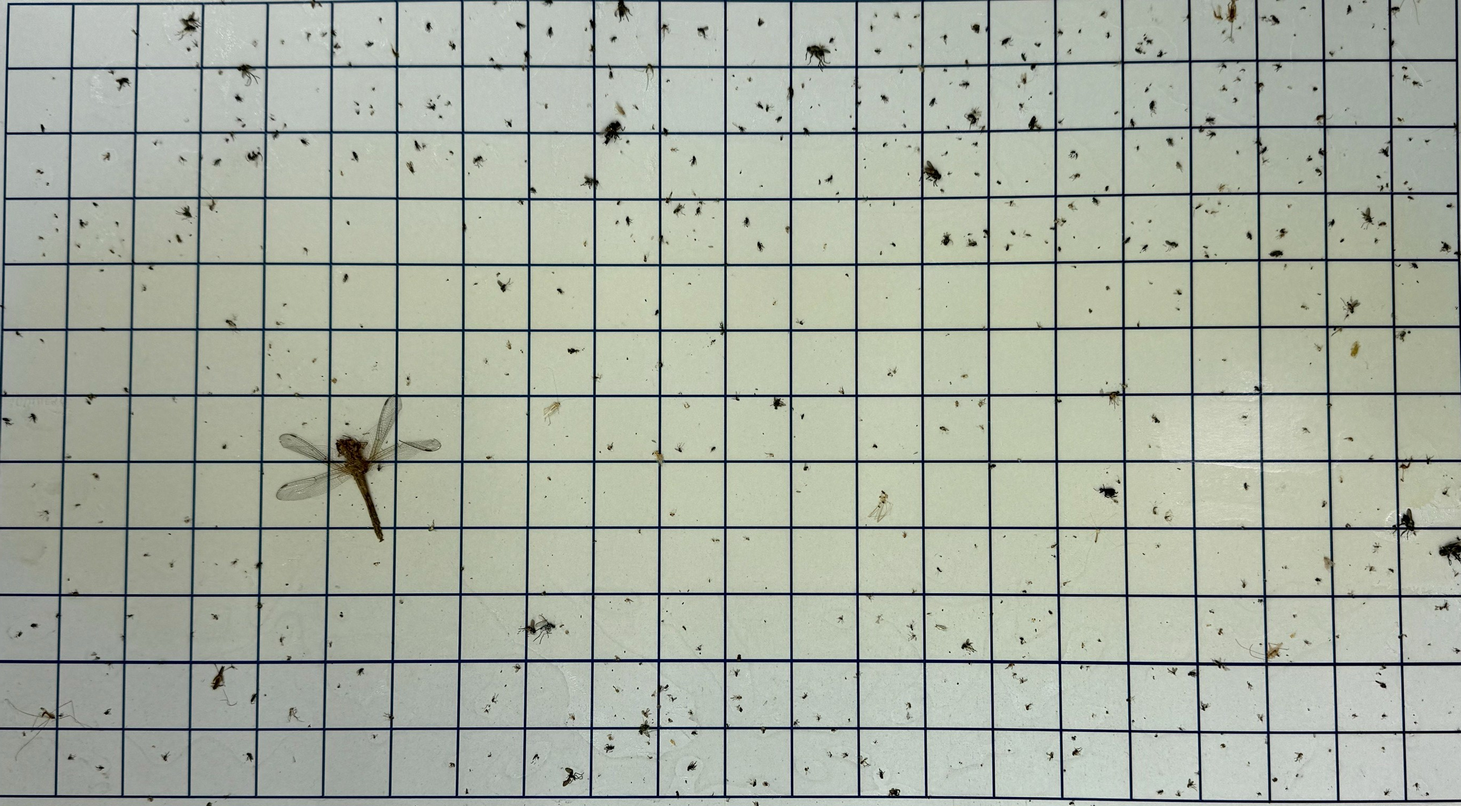fly: (1391, 508, 1417, 536), (804, 42, 831, 66), (1437, 538, 1461, 564), (602, 119, 626, 144), (611, 0, 636, 23), (922, 159, 942, 184)
test: (270, 395, 456, 545), (874, 489, 891, 525), (209, 665, 227, 695), (30, 705, 58, 724), (237, 64, 259, 86), (562, 765, 581, 789), (539, 616, 557, 640), (610, 98, 628, 117), (1266, 643, 1284, 662), (581, 174, 601, 191), (1098, 485, 1120, 499), (544, 401, 561, 419), (965, 109, 981, 128), (638, 722, 654, 740), (1227, 1, 1239, 25), (1345, 297, 1361, 315), (522, 618, 537, 637), (961, 638, 977, 655), (246, 150, 263, 165), (287, 704, 301, 722), (643, 65, 656, 84), (1360, 206, 1373, 225), (116, 76, 132, 91), (223, 316, 238, 331), (424, 519, 439, 534), (1214, 658, 1230, 672), (940, 233, 953, 250), (661, 21, 672, 41), (496, 279, 511, 293), (672, 204, 686, 219), (1323, 556, 1337, 571), (652, 451, 666, 466), (206, 198, 218, 215), (1348, 341, 1360, 358), (697, 24, 710, 39), (1107, 391, 1120, 406), (1212, 3, 1222, 22), (183, 21, 197, 34), (772, 397, 786, 410), (180, 206, 192, 221), (1000, 37, 1015, 49), (1199, 701, 1215, 712), (1268, 250, 1285, 260), (623, 215, 635, 229), (742, 215, 753, 230), (1093, 525, 1101, 545), (1164, 239, 1180, 249), (188, 13, 202, 24), (1070, 747, 1084, 758), (1186, 778, 1197, 792), (1026, 115, 1037, 129), (390, 43, 399, 60), (247, 694, 260, 705), (1187, 668, 1200, 679), (753, 240, 766, 251), (916, 62, 927, 75), (935, 623, 949, 633), (1315, 115, 1329, 125), (691, 153, 699, 170), (406, 161, 415, 176), (787, 86, 796, 101), (1150, 502, 1159, 517), (1204, 116, 1219, 125), (474, 155, 485, 167), (544, 25, 555, 37), (879, 92, 890, 104), (1068, 150, 1079, 162), (1379, 147, 1391, 158), (673, 441, 684, 453), (297, 418, 310, 428), (382, 711, 395, 721), (1268, 15, 1281, 25), (886, 788, 902, 796), (1148, 99, 1156, 115), (566, 346, 580, 355), (1278, 227, 1289, 238), (351, 151, 361, 163), (92, 471, 102, 483), (541, 0, 556, 8), (1092, 197, 1102, 209), (1164, 512, 1174, 524), (245, 751, 254, 764), (1166, 668, 1179, 677), (424, 102, 438, 110), (1438, 602, 1452, 610), (719, 320, 726, 336), (40, 508, 51, 518), (255, 600, 266, 610), (610, 683, 620, 694), (1023, 701, 1034, 711), (586, 18, 596, 29), (754, 100, 765, 110), (802, 125, 812, 136), (555, 286, 565, 297), (640, 253, 651, 263), (693, 207, 704, 217), (968, 238, 978, 249), (1151, 414, 1161, 425), (1164, 137, 1175, 147), (523, 49, 532, 61), (503, 117, 512, 129), (623, 595, 635, 604), (1133, 45, 1145, 54), (1375, 680, 1387, 689), (425, 21, 433, 34), (413, 140, 421, 153), (404, 373, 412, 386), (731, 694, 744, 702), (766, 101, 774, 114), (666, 143, 679, 151), (785, 222, 793, 235), (1068, 173, 1081, 181), (1295, 751, 1303, 764), (356, 666, 366, 676), (687, 761, 697, 771), (747, 778, 757, 788), (1046, 751, 1056, 761), (891, 10, 901, 20), (801, 464, 811, 474), (1272, 62, 1282, 72), (1412, 79, 1422, 89), (1207, 130, 1217, 140), (1253, 139, 1263, 149), (177, 153, 188, 162), (515, 20, 526, 29), (492, 63, 503, 72), (377, 464, 386, 475), (1019, 635, 1028, 646), (632, 102, 641, 113), (972, 23, 981, 34), (927, 97, 938, 106), (1441, 242, 1450, 253), (1401, 460, 1412, 469), (603, 744, 615, 752), (757, 16, 765, 28), (664, 191, 672, 203), (1021, 74, 1029, 86), (1175, 161, 1183, 173), (1245, 230, 1253, 242), (176, 234, 185, 244), (255, 561, 264, 571), (103, 709, 113, 718), (904, 701, 913, 711), (1006, 662, 1016, 671), (697, 196, 706, 206), (711, 194, 720, 204), (824, 174, 834, 183), (1018, 52, 1028, 61), (795, 318, 805, 327), (1218, 61, 1228, 70), (1255, 82, 1264, 92), (1314, 343, 1323, 353), (448, 40, 456, 51), (13, 330, 24, 338), (341, 273, 349, 284), (184, 515, 192, 526), (209, 613, 220, 621), (161, 753, 169, 764), (877, 768, 885, 779), (906, 633, 917, 641), (662, 125, 670, 136), (872, 48, 883, 56), (941, 33, 949, 44), (983, 228, 991, 239), (1065, 202, 1076, 210), (1018, 102, 1026, 113), (1119, 382, 1130, 390), (1389, 7, 1400, 15), (1398, 330, 1406, 341), (1332, 327, 1343, 335), (1246, 681, 1254, 692), (1257, 712, 1265, 723), (272, 129, 279, 141), (1, 415, 13, 422), (28, 622, 40, 629), (38, 124, 47, 133), (300, 137, 309, 146), (504, 340, 513, 349), (220, 442, 229, 451), (694, 643, 703, 652), (642, 709, 651, 718), (935, 566, 944, 575), (775, 116, 784, 125), (1155, 49, 1164, 58), (1053, 397, 1062, 406), (1259, 146, 1268, 155), (35, 167, 45, 175), (103, 151, 111, 161), (91, 200, 101, 208), (79, 219, 87, 229), (321, 30, 329, 40), (70, 590, 80, 598), (278, 637, 286, 647), (65, 753, 75, 761), (532, 751, 540, 761), (710, 536, 720, 544), (861, 756, 869, 766), (1126, 695, 1136, 703), (829, 34, 837, 44), (736, 124, 746, 132), (960, 80, 970, 88), (1056, 28, 1064, 38), (1317, 148, 1327, 156), (1304, 637, 1312, 647), (1398, 632, 1408, 640), (305, 31, 312, 42), (908, 622, 915, 633), (1128, 118, 1135, 129), (1036, 321, 1043, 332), (234, 94, 243, 102), (213, 158, 222, 166), (460, 224, 468, 233), (5, 420, 14, 428), (125, 387, 133, 396), (170, 395, 178, 404), (142, 552, 151, 560), (231, 557, 239, 566), (54, 612, 63, 620), (284, 654, 293, 662), (514, 664, 523, 672), (605, 733, 614, 741), (1217, 628, 1225, 637), (610, 34, 618, 43), (1059, 116, 1067, 125), (964, 56, 970, 68), (1104, 31, 1112, 40), (1146, 38, 1155, 46), (1123, 236, 1131, 245), (1140, 244, 1149, 252), (838, 388, 846, 397), (978, 399, 986, 408), (940, 425, 948, 434), (765, 451, 774, 459), (1219, 85, 1228, 93), (1232, 76, 1241, 84), (1410, 262, 1419, 270), (1320, 501, 1329, 509), (605, 443, 614, 451), (670, 739, 678, 748), (293, 392, 302, 400), (106, 68, 116, 75), (365, 41, 375, 48), (302, 247, 309, 257), (530, 187, 537, 197), (30, 413, 37, 423), (72, 502, 82, 509), (120, 633, 127, 643), (327, 639, 334, 649), (741, 534, 751, 541), (867, 592, 874, 602), (901, 530, 908, 540), (1219, 181, 1226, 191), (1240, 579, 1247, 589), (1347, 591, 1357, 598), (1453, 570, 1460, 580), (484, 454, 495, 460), (93, 655, 104, 661), (372, 731, 378, 742), (484, 704, 490, 715), (588, 42, 594, 53), (1405, 195, 1416, 201), (1112, 60, 1123, 66), (65, 453, 73, 461), (736, 704, 744, 712), (649, 690, 657, 698), (831, 727, 839, 735), (614, 198, 622, 206), (946, 169, 954, 177), (1099, 9, 1107, 17), (988, 463, 996, 471), (1175, 289, 1183, 297), (1373, 542, 1381, 550), (347, 61, 354, 70), (88, 391, 95, 400), (311, 357, 318, 366), (15, 630, 24, 637), (107, 660, 114, 669), (95, 764, 104, 771), (490, 694, 497, 703), (759, 725, 766, 734), (613, 218, 620, 227), (657, 235, 664, 244), (913, 12, 920, 21), (1030, 64, 1039, 71), (1186, 15, 1193, 24), (1305, 155, 1314, 162), (1315, 168, 1322, 177), (1329, 218, 1336, 227), (1253, 385, 1262, 392), (1301, 426, 1310, 433), (1243, 482, 1250, 491), (1425, 456, 1432, 465), (1452, 647, 1461, 654), (732, 392, 739, 401), (229, 128, 235, 138), (142, 284, 148, 294), (736, 654, 742, 664), (903, 714, 913, 720), (1156, 789, 1166, 795), (882, 140, 888, 150), (1005, 242, 1011, 252), (1347, 4, 1353, 14), (1389, 40, 1395, 50), (1261, 158, 1271, 164), (1445, 203, 1455, 209), (1342, 437, 1354, 442), (915, 145, 921, 155), (147, 264, 154, 272), (85, 399, 93, 406), (275, 373, 283, 380), (337, 611, 345, 618), (335, 682, 342, 690), (681, 625, 688, 633), (732, 670, 740, 677), (662, 683, 669, 691), (541, 103, 549, 110), (994, 179, 1002, 186), (1007, 200, 1015, 207), (1035, 125, 1042, 133), (1049, 542, 1057, 549), (1402, 74, 1409, 82), (1396, 116, 1404, 123), (1197, 125, 1204, 133), (1442, 487, 1449, 495), (1344, 523, 1352, 530), (1380, 712, 1388, 719), (1413, 782, 1421, 789), (32, 481, 37, 492), (801, 80, 806, 91), (1453, 124, 1458, 135), (131, 30, 140, 36), (37, 338, 46, 344), (516, 198, 525, 204), (331, 375, 337, 384), (169, 560, 175, 569), (613, 655, 622, 661), (1019, 678, 1028, 684), (745, 75, 754, 81), (654, 309, 660, 318), (891, 200, 897, 209), (982, 126, 988, 135), (1116, 476, 1122, 485), (1233, 98, 1239, 107), (682, 402, 691, 408), (96, 520, 106, 525), (1175, 726, 1185, 731), (609, 67, 614, 77), (780, 132, 785, 142), (1062, 217, 1067, 227), (186, 45, 193, 52), (239, 122, 246, 129), (77, 243, 84, 250), (108, 248, 115, 255), (333, 43, 340, 50), (252, 39, 259, 46), (522, 64, 529, 71), (355, 109, 362, 116), (485, 752, 492, 759), (688, 709, 695, 716), (724, 723, 731, 730), (926, 610, 933, 617), (1026, 579, 1033, 586), (581, 240, 588, 247), (941, 67, 948, 74), (1143, 87, 1150, 94), (960, 372, 967, 379), (1282, 263, 1289, 270), (1384, 789, 1391, 796), (564, 629, 571, 636), (268, 114, 276, 120), (282, 122, 290, 128), (398, 101, 404, 109), (343, 421, 351, 427), (398, 599, 406, 605), (59, 711, 65, 719), (637, 528, 643, 536), (569, 713, 575, 721), (763, 782, 771, 788), (1063, 581, 1071, 587), (1089, 713, 1097, 719), (899, 68, 905, 76), (891, 241, 897, 249), (1043, 237, 1049, 245), (1053, 219, 1061, 225), (1035, 40, 1041, 48), (1066, 46, 1072, 54), (1261, 14, 1267, 22), (1378, 221, 1386, 227), (1299, 304, 1307, 310), (1337, 475, 1343, 483), (1387, 567, 1395, 573), (1271, 777, 1279, 783), (332, 28, 337, 37), (465, 786, 470, 795), (802, 691, 807, 700), (1048, 608, 1053, 617), (940, 151, 949, 156), (985, 24, 990, 33), (1136, 321, 1141, 330), (1194, 204, 1203, 209), (1210, 210, 1219, 215), (223, 137, 230, 143), (445, 100, 451, 107), (345, 220, 351, 227), (127, 613, 134, 619), (450, 760, 456, 767), (559, 623, 566, 629), (670, 509, 676, 516), (675, 790, 681, 797), (540, 590, 547, 596), (1071, 735, 1078, 741), (1176, 790, 1183, 796), (817, 178, 823, 185), (908, 43, 914, 50), (863, 195, 869, 202), (843, 272, 849, 279), (1010, 229, 1016, 236), (1057, 246, 1063, 253), (1113, 111, 1119, 118), (1379, 184, 1385, 191), (1241, 414, 1248, 420), (1368, 455, 1375, 461), (1399, 476, 1405, 483), (1241, 525, 1247, 532), (1257, 599, 1264, 605), (1031, 618, 1038, 624), (1142, 34, 1149, 40), (1427, 551, 1434, 557), (753, 800, 760, 806), (194, 40, 199, 48), (217, 67, 222, 75), (152, 140, 160, 145), (97, 327, 107, 331), (484, 357, 489, 365), (21, 731, 26, 739), (841, 753, 849, 758), (910, 589, 918, 594), (1210, 608, 1215, 616), (1023, 232, 1031, 237), (1048, 90, 1053, 98), (800, 413, 805, 421), (955, 400, 960, 408), (1070, 264, 1078, 269), (1454, 250, 1459, 258), (1325, 402, 1333, 407), (1367, 567, 1375, 572), (1382, 664, 1387, 672), (692, 187, 696, 197), (646, 755, 654, 760), (1205, 623, 1213, 628), (1394, 262, 1402, 267), (53, 212, 59, 218), (55, 226, 61, 232), (310, 2, 316, 8), (369, 111, 375, 117), (205, 365, 211, 371), (672, 697, 678, 703), (668, 716, 674, 722), (802, 766, 811, 770), (1080, 643, 1086, 649), (956, 135, 962, 141), (939, 188, 945, 194), (1105, 185, 1109, 194), (772, 300, 778, 306), (887, 371, 893, 377), (979, 424, 985, 430), (1087, 308, 1093, 314), (1239, 68, 1245, 74), (1312, 86, 1318, 92), (1297, 179, 1303, 185), (1376, 174, 1382, 180), (1203, 252, 1209, 258), (1373, 238, 1379, 244), (1377, 671, 1383, 677), (1381, 745, 1387, 751), (660, 361, 664, 370), (710, 446, 716, 452), (651, 438, 657, 444), (131, 410, 137, 416), (711, 338, 717, 344), (1017, 81, 1021, 90), (97, 268, 104, 273), (488, 56, 495, 61), (492, 1, 499, 6), (370, 85, 377, 90), (437, 113, 442, 120), (275, 321, 282, 326), (268, 344, 275, 349), (255, 385, 260, 392), (828, 750, 833, 757), (839, 615, 844, 622), (1220, 743, 1227, 748), (1194, 770, 1201, 775), (836, 199, 843, 204), (945, 124, 950, 131), (973, 140, 978, 147), (893, 367, 898, 374), (1149, 281, 1154, 288), (1234, 150, 1241, 155), (1291, 632, 1296, 639), (1350, 714, 1357, 719), (1425, 791, 1430, 798), (593, 376, 600, 381), (546, 475, 551, 482), (1281, 565, 1288, 570), (184, 119, 191, 124), (472, 282, 479, 287), (37, 235, 45, 239), (115, 220, 119, 228), (817, 714, 821, 722), (690, 731, 698, 735), (850, 126, 858, 130), (823, 243, 827, 251), (1221, 358, 1229, 362), (644, 741, 652, 745), (235, 117, 241, 122), (318, 1, 323, 7), (422, 143, 427, 149), (449, 150, 455, 155), (460, 565, 466, 570), (667, 693, 673, 698), (660, 618, 666, 623), (1097, 637, 1102, 643), (1011, 673, 1017, 678), (869, 24, 874, 30), (873, 12, 878, 18), (907, 144, 912, 150), (974, 172, 980, 177), (872, 444, 878, 449), (1156, 543, 1161, 549), (1329, 52, 1335, 57), (1409, 137, 1414, 143), (1402, 180, 1408, 185), (1408, 186, 1413, 192), (1256, 791, 1262, 796), (1328, 748, 1333, 754), (1151, 675, 1156, 681), (626, 139, 631, 145), (603, 94, 609, 99), (855, 672, 861, 677), (725, 798, 731, 803), (353, 101, 360, 105), (205, 390, 212, 394), (374, 562, 381, 566), (1154, 734, 1161, 738), (857, 99, 861, 106), (1300, 6, 1307, 10), (1401, 66, 1408, 70), (1175, 467, 1182, 471), (1315, 578, 1322, 582), (1334, 634, 1341, 638), (1413, 720, 1420, 724), (666, 77, 670, 84), (380, 16, 383, 25), (505, 371, 510, 376), (638, 662, 643, 667), (1022, 589, 1027, 594), (1085, 665, 1090, 670), (1131, 719, 1136, 724), (1105, 710, 1110, 715), (835, 192, 840, 197), (902, 124, 907, 129), (973, 544, 978, 549), (1105, 285, 1110, 290), (1387, 140, 1392, 145), (1291, 613, 1296, 618), (1294, 772, 1299, 777), (738, 170, 743, 175), (168, 239, 173, 244), (189, 234, 194, 239), (285, 582, 290, 587), (239, 434, 244, 439), (46, 181, 52, 185), (42, 251, 46, 257), (282, 302, 288, 306), (496, 271, 500, 277), (3, 389, 7, 395), (999, 599, 1003, 605), (903, 110, 907, 116), (879, 250, 883, 256), (967, 232, 973, 236), (1050, 226, 1056, 230), (1114, 500, 1120, 504), (1221, 29, 1225, 35), (1237, 25, 1243, 29), (1362, 1, 1368, 5), (1424, 139, 1430, 143), (1285, 205, 1291, 209), (1338, 238, 1344, 242), (1175, 307, 1181, 311), (1219, 391, 1225, 395), (1426, 642, 1432, 646), (1148, 444, 1152, 450), (652, 123, 655, 131), (1072, 234, 1076, 240), (1286, 86, 1292, 90), (582, 28, 588, 32), (693, 228, 697, 234), (525, 412, 529, 418), (1236, 60, 1240, 66), (193, 63, 200, 66), (795, 719, 798, 726), (1050, 554, 1057, 557), (1386, 182, 1389, 189), (1202, 245, 1209, 248), (894, 136, 897, 143), (368, 105, 373, 109), (520, 349, 524, 354), (874, 739, 878, 744), (1135, 146, 1140, 150), (981, 325, 985, 330), (1072, 535, 1077, 539), (1204, 209, 1209, 213), (1284, 786, 1289, 790), (758, 184, 763, 188), (868, 203, 872, 208), (949, 81, 953, 86), (857, 86, 862, 90), (193, 88, 197, 93), (201, 155, 205, 160), (118, 253, 122, 258), (308, 724, 313, 728), (243, 570, 248, 574), (350, 502, 354, 507), (399, 479, 403, 484), (523, 159, 528, 163), (468, 768, 472, 773), (858, 418, 863, 422), (958, 761, 963, 765), (1034, 628, 1038, 633), (1455, 306, 1459, 311), (384, 440, 389, 444), (1148, 83, 1152, 88), (990, 612, 994, 617), (1220, 731, 1225, 735), (711, 792, 715, 797), (339, 171, 342, 177), (1079, 29, 1082, 35), (1106, 380, 1109, 386), (1382, 27, 1388, 30), (1130, 219, 1133, 225), (796, 490, 802, 493), (1354, 121, 1357, 127), (266, 353, 272, 356), (437, 92, 439, 100), (949, 381, 953, 385), (1218, 202, 1222, 206), (1318, 292, 1322, 296), (1415, 280, 1419, 284), (1152, 184, 1156, 188), (809, 105, 813, 109), (735, 87, 739, 91), (848, 718, 852, 722), (1362, 602, 1366, 606), (67, 577, 71, 581), (105, 672, 109, 676), (264, 693, 268, 697), (375, 360, 379, 364), (259, 245, 263, 249), (551, 271, 555, 275), (543, 495, 547, 499), (686, 234, 690, 238), (844, 677, 848, 681), (1246, 761, 1250, 765), (1309, 361, 1313, 365), (468, 501, 472, 505), (361, 507, 365, 511), (581, 347, 585, 351), (1263, 579, 1267, 583), (977, 616, 981, 620), (968, 661, 972, 665), (897, 771, 901, 775), (359, 325, 364, 328), (708, 578, 711, 583), (1080, 664, 1083, 669), (1148, 219, 1151, 224), (1372, 23, 1375, 28), (1311, 266, 1314, 271), (907, 171, 910, 176), (946, 333, 951, 336), (1063, 769, 1068, 772), (791, 407, 794, 412), (214, 563, 219, 566), (151, 745, 156, 748), (286, 625, 289, 630), (383, 505, 386, 510), (369, 482, 374, 485), (286, 350, 291, 353), (320, 375, 325, 378), (580, 614, 583, 619), (623, 649, 626, 654), (917, 288, 922, 291), (913, 452, 918, 455), (981, 763, 984, 768), (1170, 84, 1173, 89), (1286, 652, 1289, 657), (1392, 249, 1397, 252), (1313, 733, 1316, 738), (707, 246, 714, 248), (282, 40, 285, 44), (1097, 246, 1101, 249), (1307, 707, 1311, 710), (1142, 553, 1146, 556), (687, 282, 691, 285), (644, 298, 647, 302), (626, 356, 629, 360), (755, 388, 759, 391), (732, 74, 735, 78), (764, 619, 767, 623), (597, 774, 601, 777), (666, 241, 669, 245), (1003, 535, 1006, 539), (1007, 749, 1011, 752), (1340, 46, 1343, 50), (1214, 253, 1218, 256), (680, 391, 683, 395), (52, 77, 56, 80), (146, 42, 149, 46), (204, 420, 207, 424), (168, 532, 172, 535), (415, 496, 419, 499), (445, 158, 449, 161), (478, 216, 482, 219), (672, 273, 675, 277), (565, 435, 569, 438), (540, 686, 543, 690), (915, 424, 918, 428), (1181, 136, 1184, 140), (1151, 667, 1155, 670), (1259, 642, 1262, 646), (1344, 108, 1348, 111), (1392, 74, 1395, 78), (1402, 283, 1405, 287), (1450, 477, 1454, 480), (1377, 507, 1380, 511), (1449, 710, 1452, 714), (1393, 733, 1397, 736), (553, 443, 556, 447), (533, 386, 536, 390), (344, 372, 348, 375), (474, 265, 477, 269), (1105, 471, 1109, 474), (1217, 551, 1220, 555), (1408, 330, 1411, 334), (1227, 204, 1230, 208), (939, 555, 943, 558), (1038, 619, 1041, 623), (943, 680, 946, 684), (685, 779, 687, 784), (583, 502, 588, 504), (727, 777, 729, 782), (633, 240, 636, 243), (693, 238, 696, 241), (849, 115, 852, 118), (817, 103, 820, 106), (809, 77, 812, 80), (594, 539, 597, 542), (1026, 180, 1029, 183), (1293, 33, 1296, 36), (826, 382, 829, 385), (405, 574, 408, 577), (338, 493, 341, 496), (599, 451, 602, 454), (470, 577, 473, 580), (499, 670, 502, 673), (614, 714, 617, 717), (611, 669, 614, 672), (699, 652, 702, 655), (665, 610, 668, 613), (678, 590, 681, 593), (834, 48, 837, 51), (945, 305, 948, 308), (948, 650, 951, 653), (956, 682, 959, 685), (1044, 21, 1047, 24), (1225, 262, 1228, 265), (1166, 621, 1169, 624), (1143, 717, 1146, 720), (1407, 657, 1410, 660), (1329, 639, 1332, 642), (1421, 699, 1424, 702), (359, 427, 362, 430), (436, 415, 439, 418), (547, 564, 550, 567), (542, 584, 545, 587), (609, 601, 612, 604), (690, 353, 693, 356), (1163, 492, 1166, 495), (1354, 518, 1357, 521), (1348, 564, 1351, 567), (1370, 377, 1373, 380), (1286, 157, 1289, 160), (1030, 96, 1033, 99), (1133, 106, 1136, 109), (1160, 621, 1163, 624), (630, 756, 633, 759), (642, 778, 645, 781), (687, 803, 690, 806), (701, 799, 704, 802), (712, 217, 716, 219), (862, 158, 866, 160), (682, 602, 684, 606), (1238, 185, 1240, 189), (504, 685, 508, 687), (1289, 661, 1293, 663), (1412, 714, 1416, 716), (864, 166, 866, 169), (687, 589, 689, 592), (765, 586, 767, 589), (635, 433, 637, 436), (762, 433, 765, 435), (794, 435, 796, 438), (215, 525, 218, 527), (290, 385, 292, 388), (447, 278, 449, 281), (603, 491, 605, 494), (637, 687, 639, 690), (623, 717, 625, 720), (754, 392, 756, 395), (885, 297, 888, 299), (941, 609, 943, 612), (1023, 655, 1025, 658), (1356, 208, 1359, 210), (551, 554, 553, 557), (645, 379, 648, 381), (707, 345, 709, 348), (1028, 98, 1031, 100), (982, 611, 984, 614), (1349, 708, 1352, 710), (630, 781, 632, 784), (816, 801, 818, 804), (949, 765, 952, 767), (581, 497, 583, 499), (947, 281, 949, 283)
